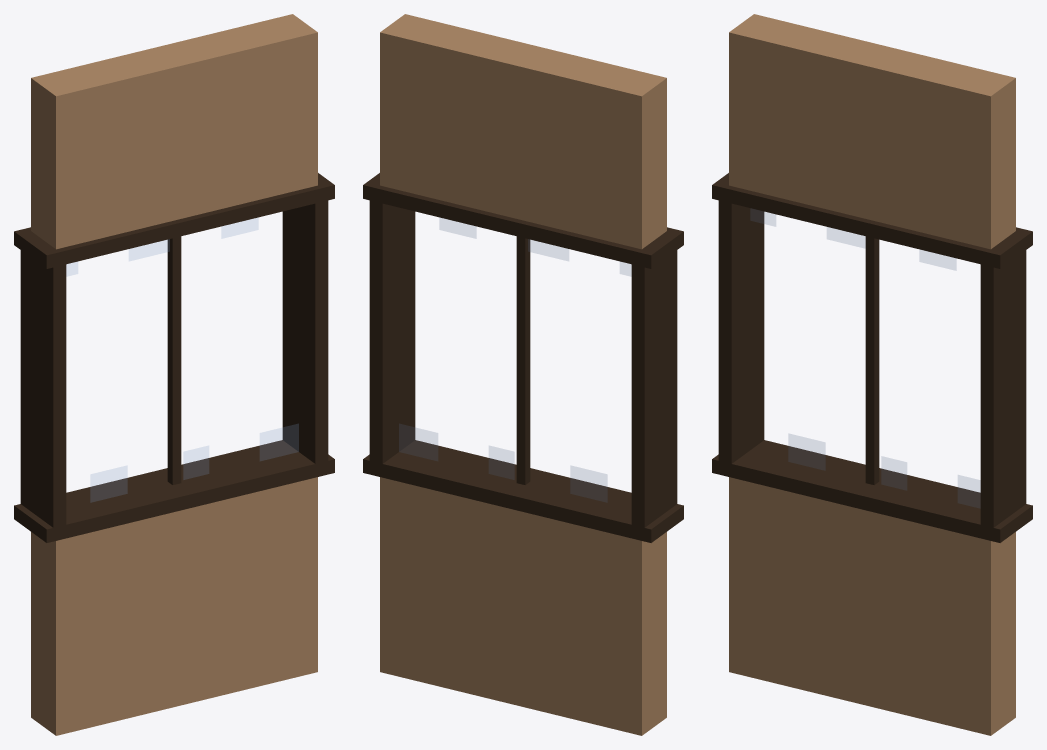
Rendered from ENV_Cabin_Window_A_Broken.glb.
3 views of the same model, side by side, from view 1: azimuth 30°, elevation 25°; view 2: azimuth 150°, elevation 25°; view 3: azimuth 330°, elevation 25° (orthographic).
Parts seen in each view (by area): view 1: ENV_Cabin_Window_A_Broken_SillWall, ENV_Cabin_Window_A_Broken_Header, ENV_Cabin_Window_A_Broken_FrameV0, ENV_Cabin_Window_A_Broken_FrameH0, ENV_Cabin_Window_A_Broken_FrameV1, ENV_Cabin_Window_A_Broken_FrameH1, ENV_Cabin_Window_A_Broken_Cross, ENV_Cabin_Window_A_Broken_Shard5, ENV_Cabin_Window_A_Broken_Shard1, ENV_Cabin_Window_A_Broken_Shard3; view 2: ENV_Cabin_Window_A_Broken_SillWall, ENV_Cabin_Window_A_Broken_Header, ENV_Cabin_Window_A_Broken_FrameV0, ENV_Cabin_Window_A_Broken_FrameH0, ENV_Cabin_Window_A_Broken_FrameV1, ENV_Cabin_Window_A_Broken_FrameH1, ENV_Cabin_Window_A_Broken_Cross, ENV_Cabin_Window_A_Broken_Shard5, ENV_Cabin_Window_A_Broken_Shard1, ENV_Cabin_Window_A_Broken_Shard3; view 3: ENV_Cabin_Window_A_Broken_SillWall, ENV_Cabin_Window_A_Broken_Header, ENV_Cabin_Window_A_Broken_FrameV1, ENV_Cabin_Window_A_Broken_FrameH0, ENV_Cabin_Window_A_Broken_FrameV0, ENV_Cabin_Window_A_Broken_FrameH1, ENV_Cabin_Window_A_Broken_Cross, ENV_Cabin_Window_A_Broken_Shard1, ENV_Cabin_Window_A_Broken_Shard3, ENV_Cabin_Window_A_Broken_Shard5.
Boxes of the visible parts, x1,y1,x2,y2 form: ENV_Cabin_Window_A_Broken_SillWall: [31, 477, 317, 735]; ENV_Cabin_Window_A_Broken_Header: [31, 14, 317, 249]; ENV_Cabin_Window_A_Broken_FrameV0: [20, 250, 66, 533]; ENV_Cabin_Window_A_Broken_FrameH0: [14, 440, 334, 542]; ENV_Cabin_Window_A_Broken_FrameV1: [282, 194, 328, 470]; ENV_Cabin_Window_A_Broken_FrameH1: [14, 173, 334, 268]; ENV_Cabin_Window_A_Broken_Cross: [167, 236, 181, 484]; ENV_Cabin_Window_A_Broken_Shard5: [260, 424, 298, 460]; ENV_Cabin_Window_A_Broken_Shard1: [91, 466, 126, 501]; ENV_Cabin_Window_A_Broken_Shard3: [184, 446, 208, 479]; ENV_Cabin_Window_A_Broken_SillWall: [380, 477, 666, 735]; ENV_Cabin_Window_A_Broken_Header: [380, 14, 666, 249]; ENV_Cabin_Window_A_Broken_FrameV0: [631, 250, 677, 533]; ENV_Cabin_Window_A_Broken_FrameH0: [363, 440, 683, 542]; ENV_Cabin_Window_A_Broken_FrameV1: [369, 194, 415, 469]; ENV_Cabin_Window_A_Broken_FrameH1: [363, 173, 683, 268]; ENV_Cabin_Window_A_Broken_Cross: [516, 236, 530, 484]; ENV_Cabin_Window_A_Broken_Shard5: [399, 424, 437, 460]; ENV_Cabin_Window_A_Broken_Shard1: [571, 466, 606, 501]; ENV_Cabin_Window_A_Broken_Shard3: [489, 446, 513, 479]; ENV_Cabin_Window_A_Broken_SillWall: [729, 477, 1015, 735]; ENV_Cabin_Window_A_Broken_Header: [729, 14, 1015, 249]; ENV_Cabin_Window_A_Broken_FrameV1: [980, 250, 1026, 533]; ENV_Cabin_Window_A_Broken_FrameH0: [712, 440, 1032, 542]; ENV_Cabin_Window_A_Broken_FrameV0: [718, 194, 764, 469]; ENV_Cabin_Window_A_Broken_FrameH1: [712, 173, 1032, 268]; ENV_Cabin_Window_A_Broken_Cross: [865, 236, 879, 484]; ENV_Cabin_Window_A_Broken_Shard1: [789, 434, 824, 469]; ENV_Cabin_Window_A_Broken_Shard3: [882, 457, 906, 489]; ENV_Cabin_Window_A_Broken_Shard5: [958, 475, 979, 507].
Size of the model in its own units: 1.32 by 2.8 by 0.26.
